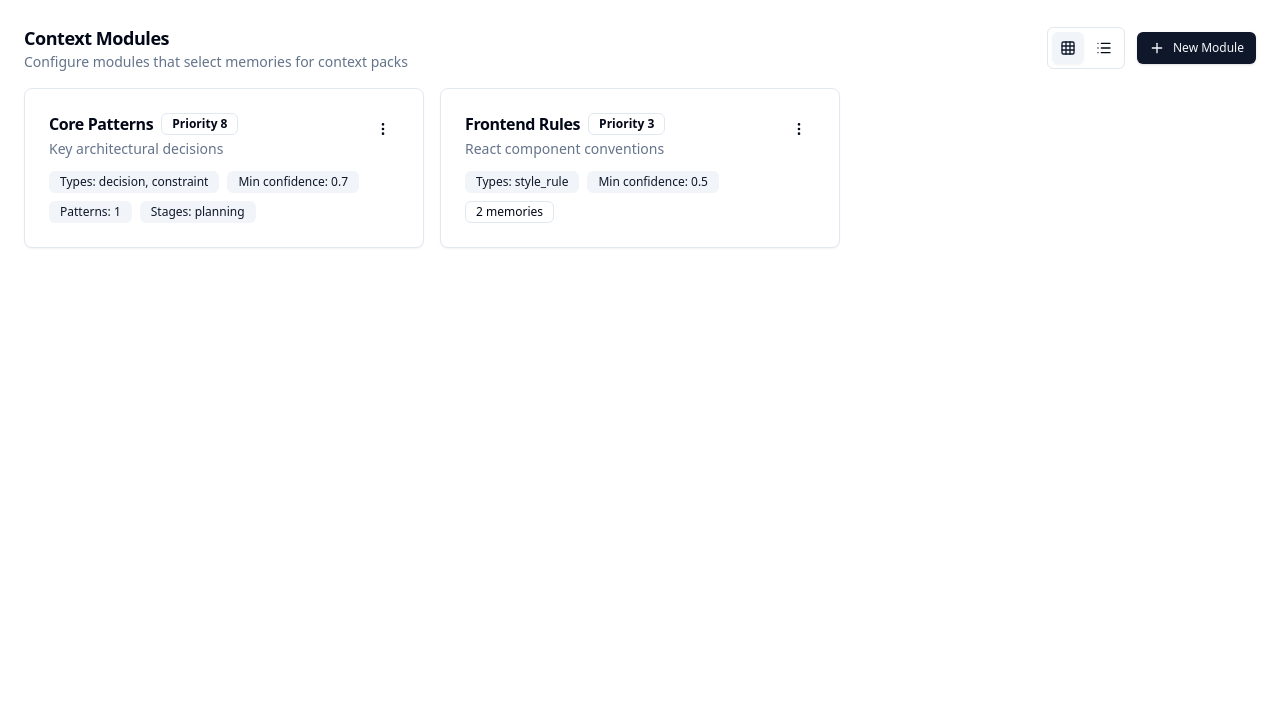
Test: ContextModulesTab › Create Module Flow › opens create dialog when "New Module" button is clicked
Step 1. Click the button "New Module" → (1196, 48), box left=1137, top=32, right=1256, bottom=64
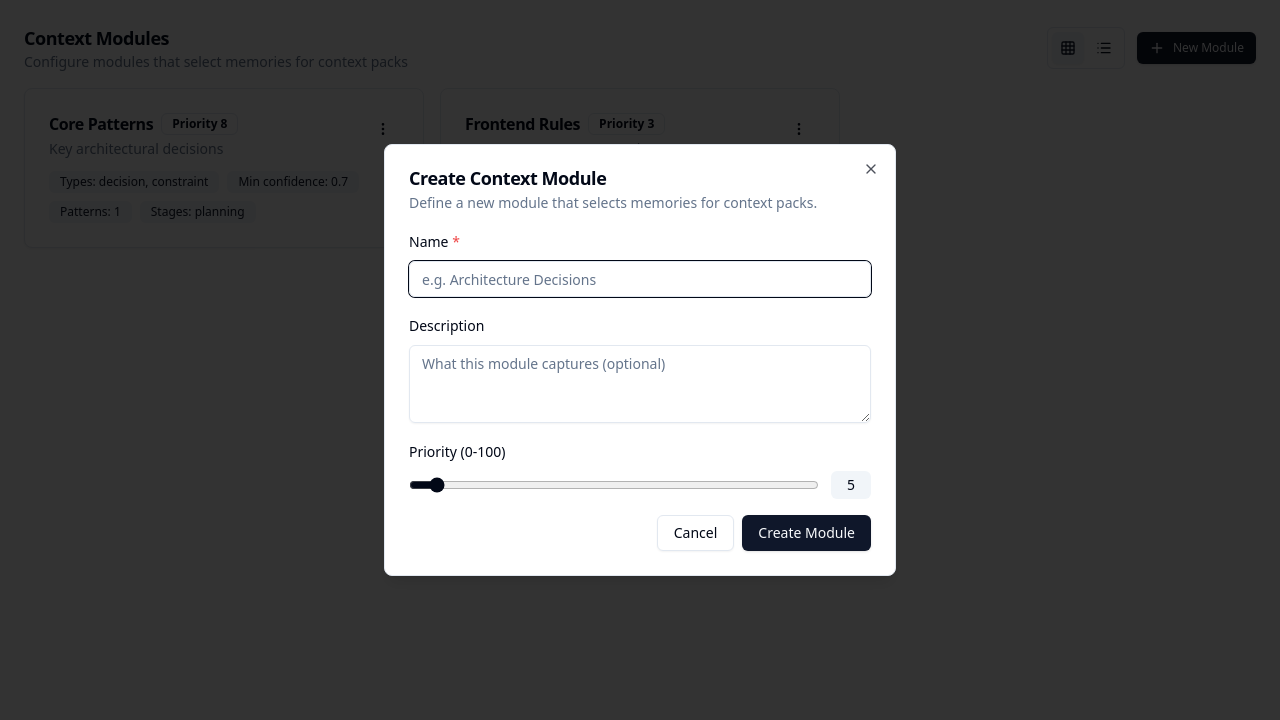
Result: the heading "Create Context Module" is shown at left=409, top=166, right=606, bottom=190
Result: the field labelled "Name *" is shown at left=409, top=261, right=871, bottom=297
